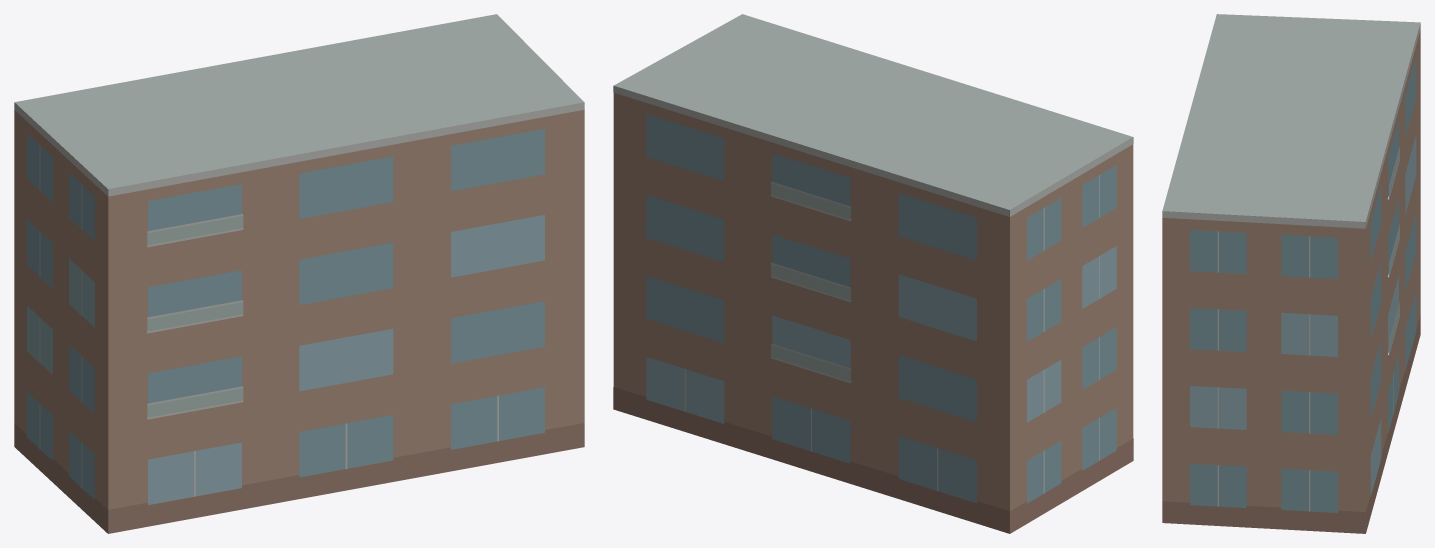
File: survey-upis-32863878.glb
The picture shows the model from 3 angles, left to right: view 1: azimuth 30°, elevation 25°; view 2: azimuth 150°, elevation 25°; view 3: azimuth 270°, elevation 25°; orthographic projection. The views are drawn at different scales.
Visible parts, largest first — view 1: survey-upis-32863878.tmp; view 2: survey-upis-32863878.tmp; view 3: survey-upis-32863878.tmp.
Part boxes in pixels (x1,y1,x2,y2): survey-upis-32863878.tmp: (14,14,584,533); survey-upis-32863878.tmp: (613,14,1133,533); survey-upis-32863878.tmp: (1162,14,1420,533).
Size of the model in its own units: 16.32 by 11.4 by 8.57.
